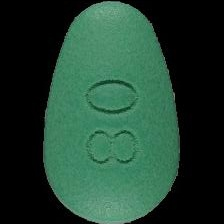64764-677: (0, 0, 224, 224)
